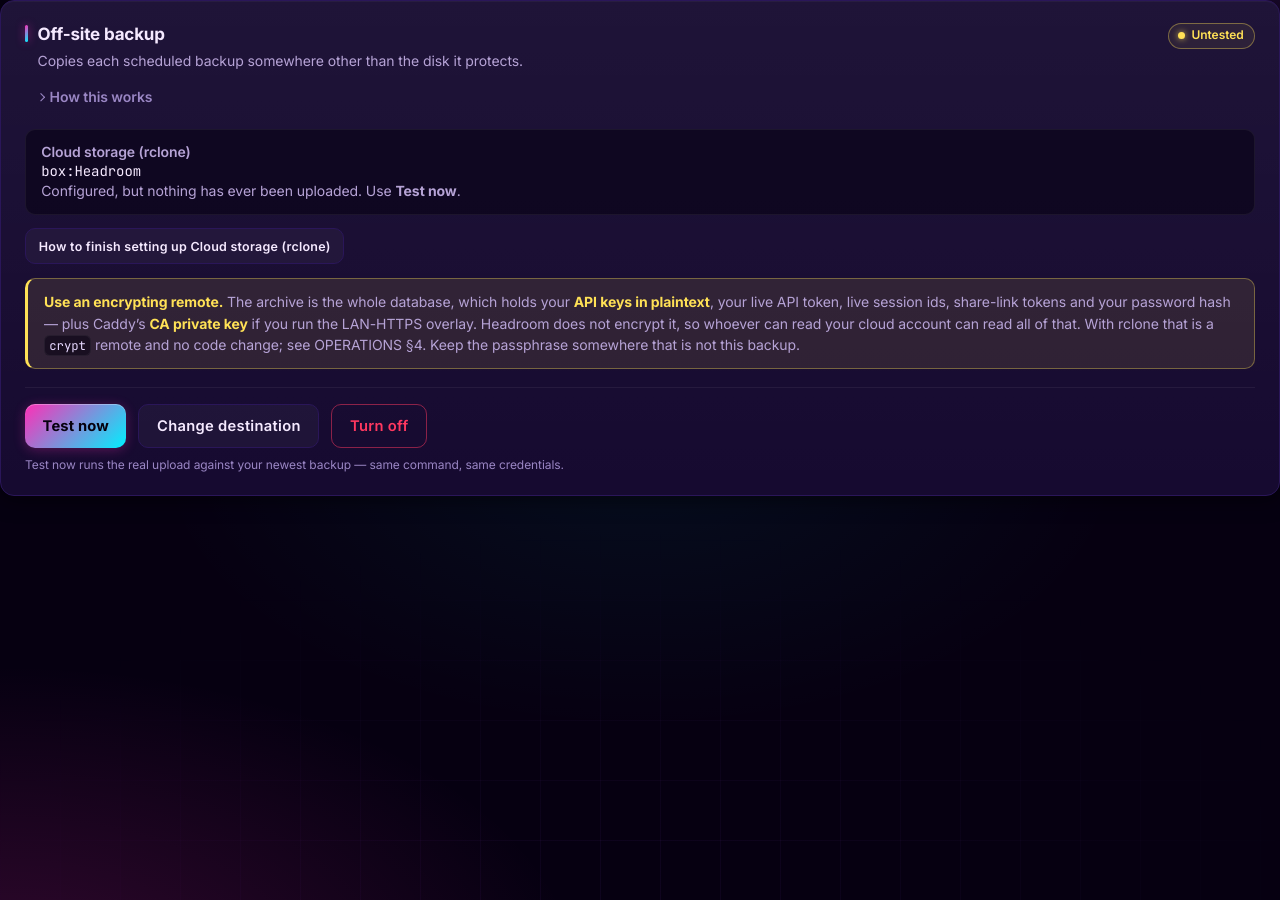
Scenario: OffsiteBackupCard › offers a real test once configured
Click the button "Test now" at (76, 426), box [25,404,126,448]
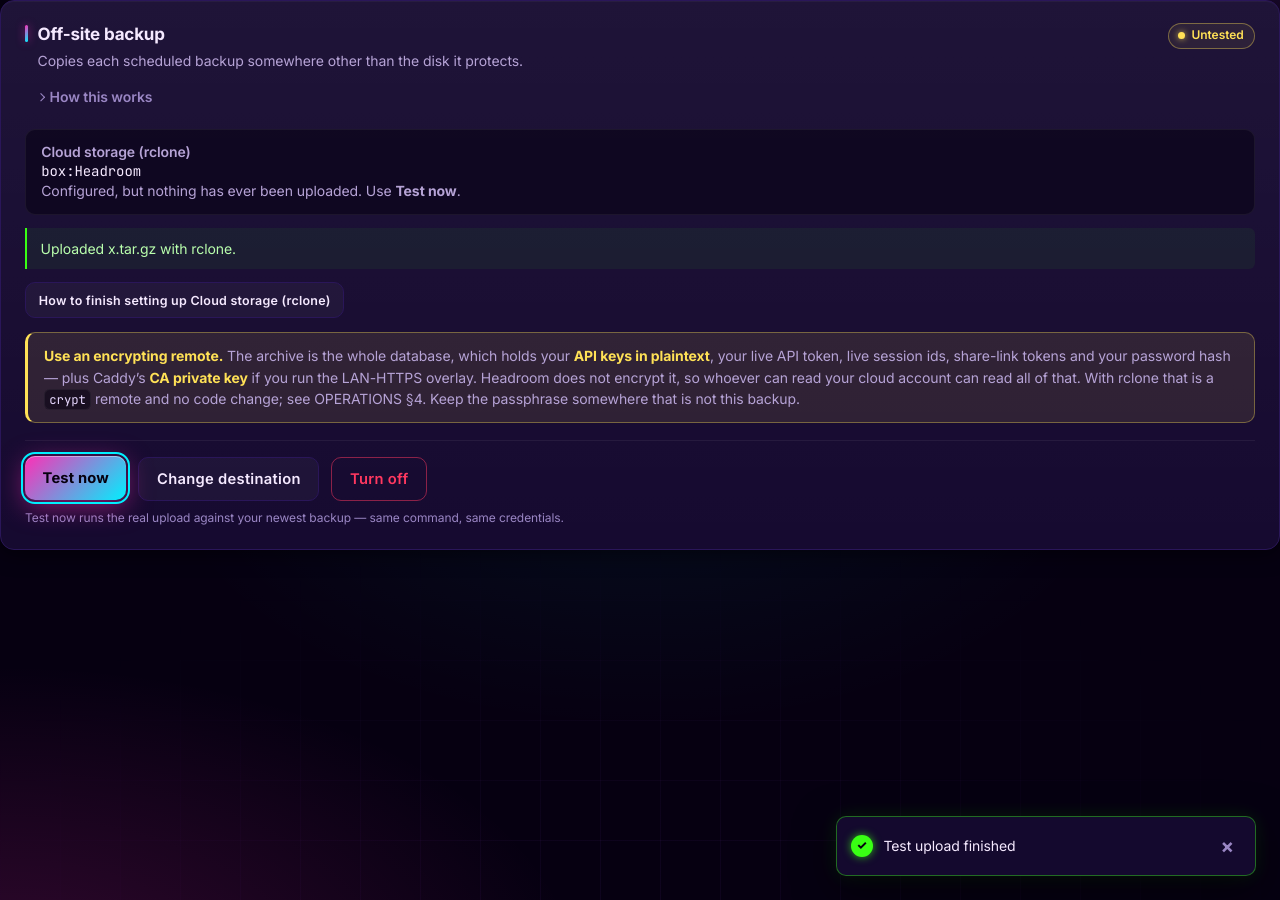
Result: the text "Uploaded x.tar.gz with rclone." is shown at [25,228,1255,269]
